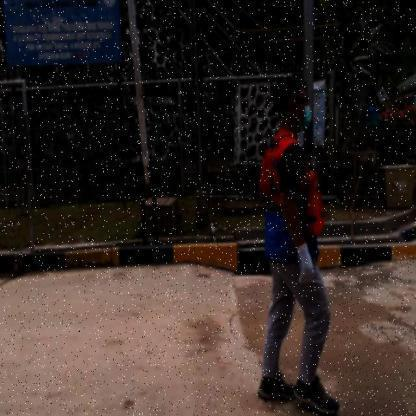boots: (294, 375, 342, 415), (256, 372, 297, 402)
gloves: (294, 240, 316, 286)
goggles: (290, 96, 312, 107)
mask: (300, 106, 312, 132)
vest: (258, 146, 326, 240)
